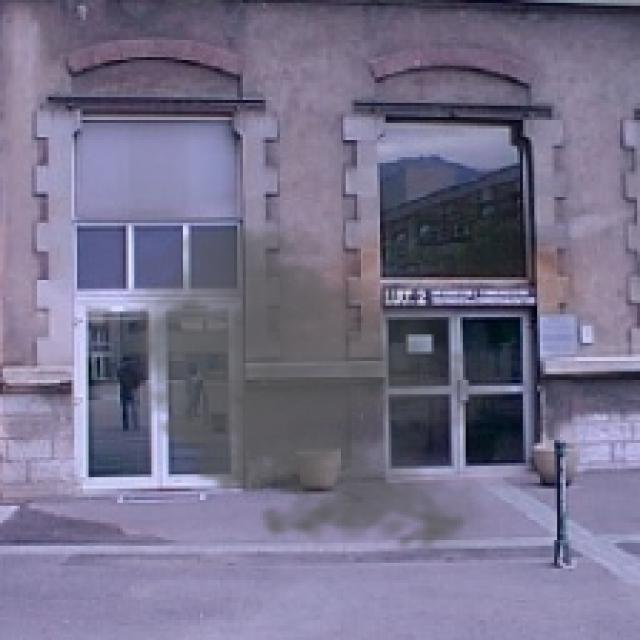smoke: (100, 217, 511, 560)
